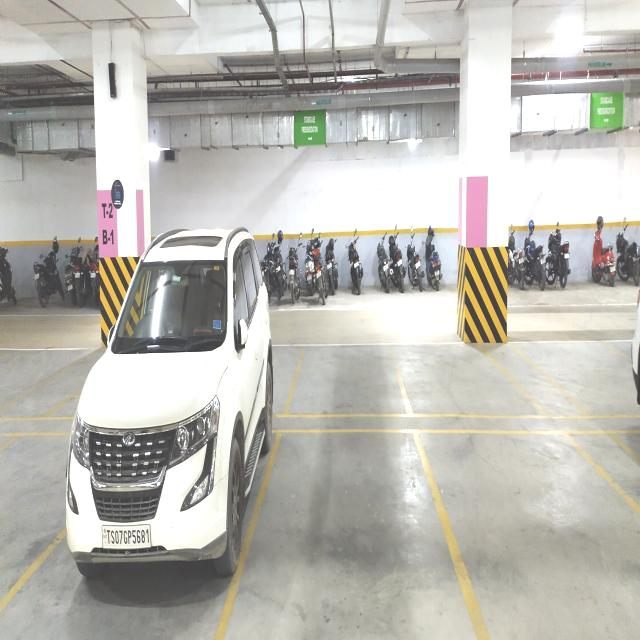car: (85, 425, 194, 622)
free: (444, 446, 588, 626), (277, 466, 415, 638), (0, 432, 54, 600), (406, 341, 497, 412), (302, 346, 388, 416)
